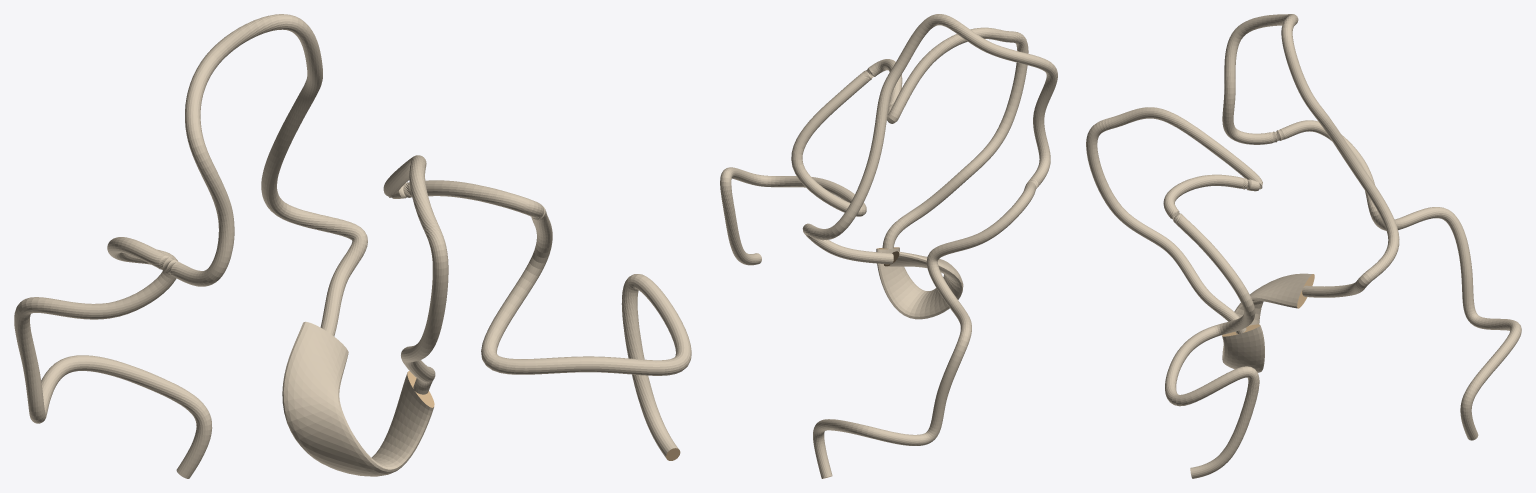
Rendered from fCoilfCoilfCoil.dae.
3 views of the same model, side by side, from view 1: azimuth 30°, elevation 25°; view 2: azimuth 150°, elevation 25°; view 3: azimuth 270°, elevation 25° (orthographic). The views are drawn at different scales.
Visible parts, largest first — view 1: Shape_IndexedTriangleStripSet_042; view 2: Shape_IndexedTriangleStripSet_042; view 3: Shape_IndexedTriangleStripSet_042.
Part boxes in pixels (x1,y1,x2,y2): Shape_IndexedTriangleStripSet_042: (14,14,691,478); Shape_IndexedTriangleStripSet_042: (720,14,1057,478); Shape_IndexedTriangleStripSet_042: (1086,14,1521,478).
Bounding box in the file's own units: 17.96 × 19.18 × 19.69.
